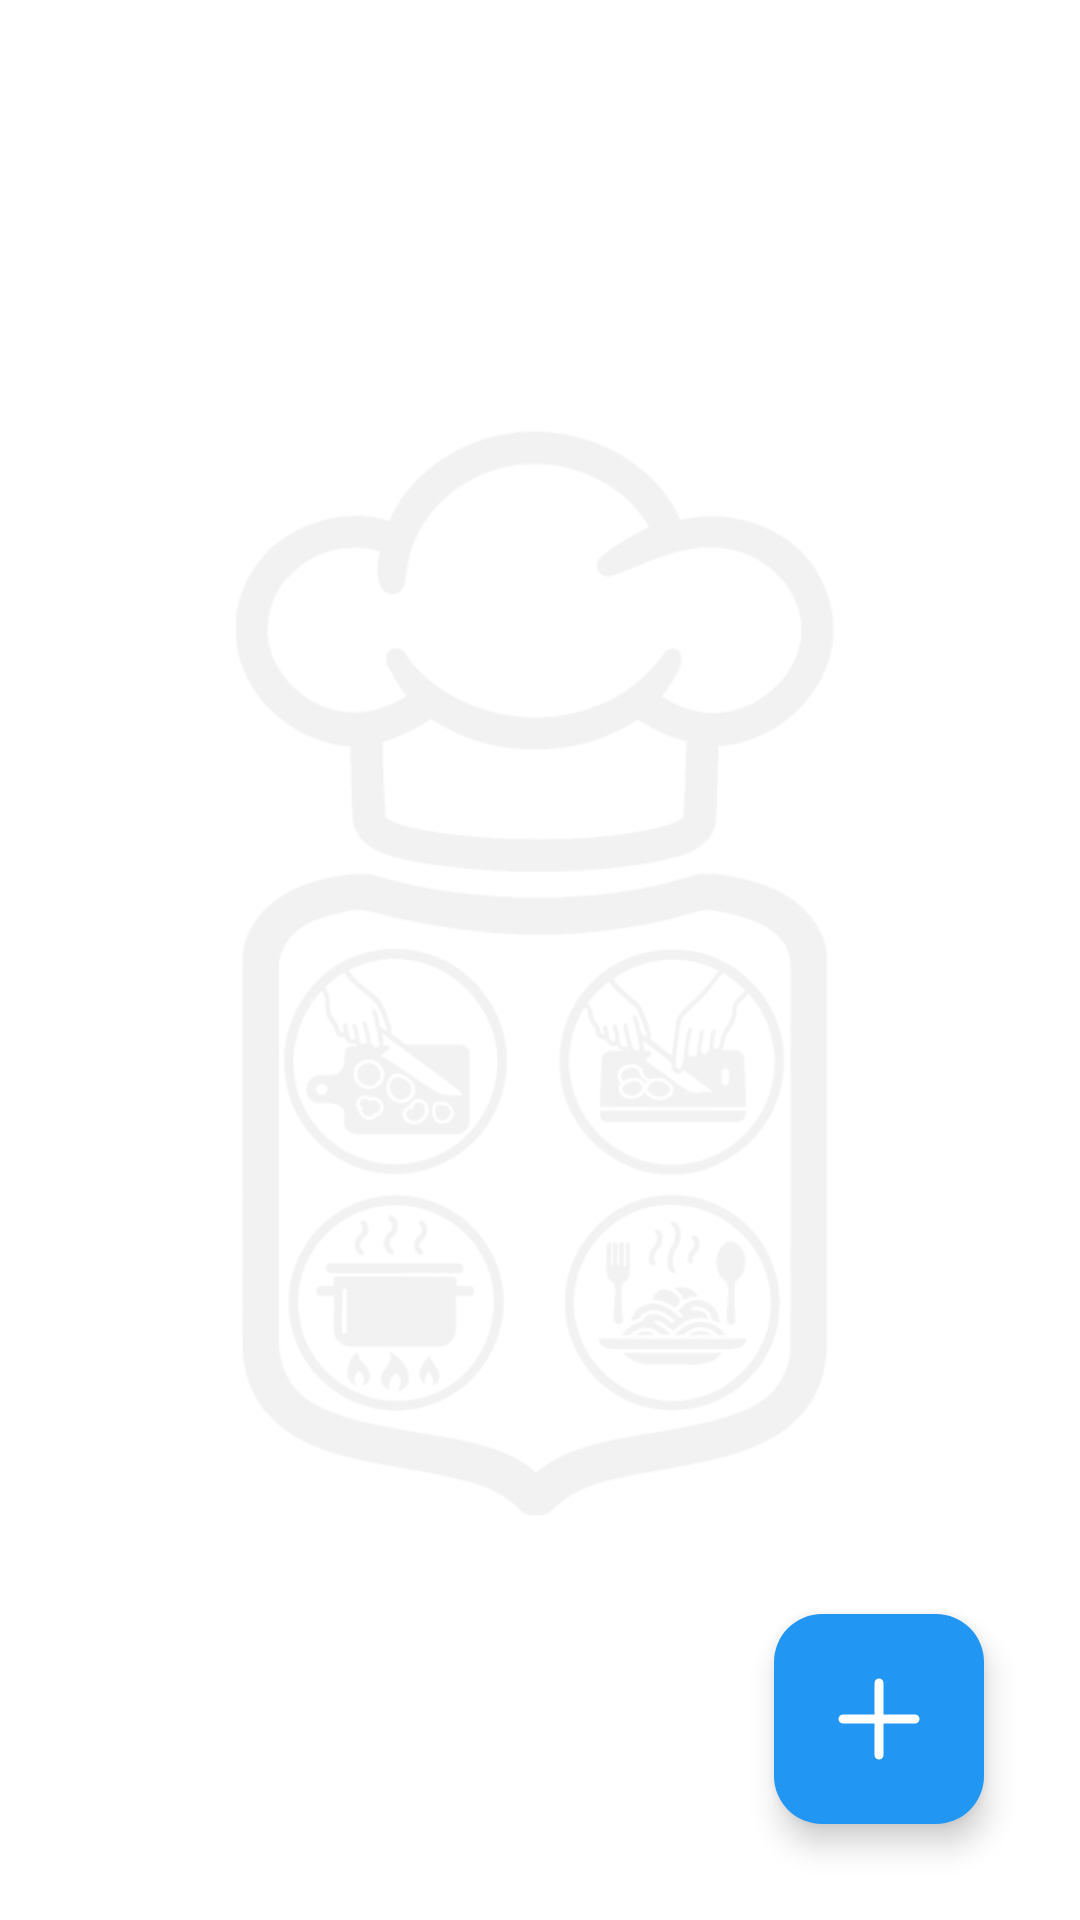

Named icons in this screenshot (1080px×1920px) and their bounding boxes, bbox=[x1, y1, x2, y2]:
Botón nuevo paso: bbox=[774, 1614, 984, 1824]
